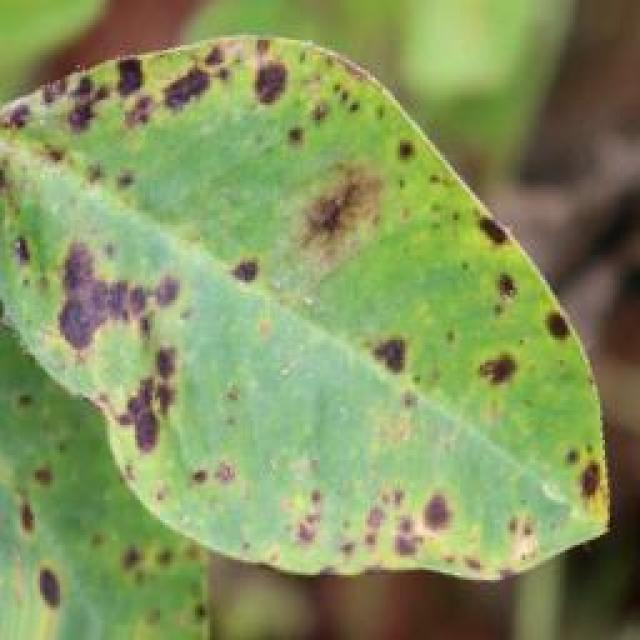Yellowish: (0, 20, 601, 618)
